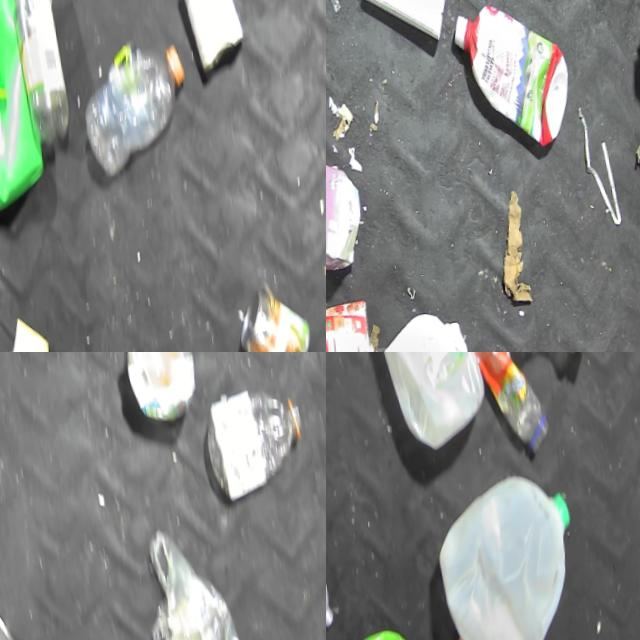can: (171, 0, 245, 86), (225, 284, 312, 352), (326, 300, 366, 352)
milk_jug: (420, 470, 577, 640), (352, 352, 485, 458), (348, 311, 471, 352)
non_white_jug: (447, 2, 569, 161), (0, 0, 45, 225), (326, 130, 358, 286)
plastic_bottle: (72, 29, 189, 189), (196, 388, 304, 509), (0, 0, 72, 154)
